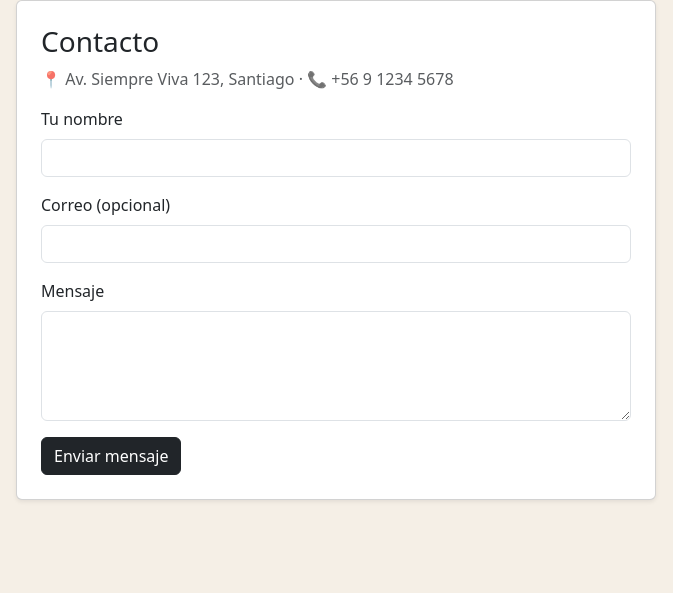
Scenario: envía un mensaje, lo guarda en localStorage y muestra la confirmación
Step 1. Type "Camila" into the field labelled "Tu nombre" → coordinates (336, 158), box [41,139,631,177]
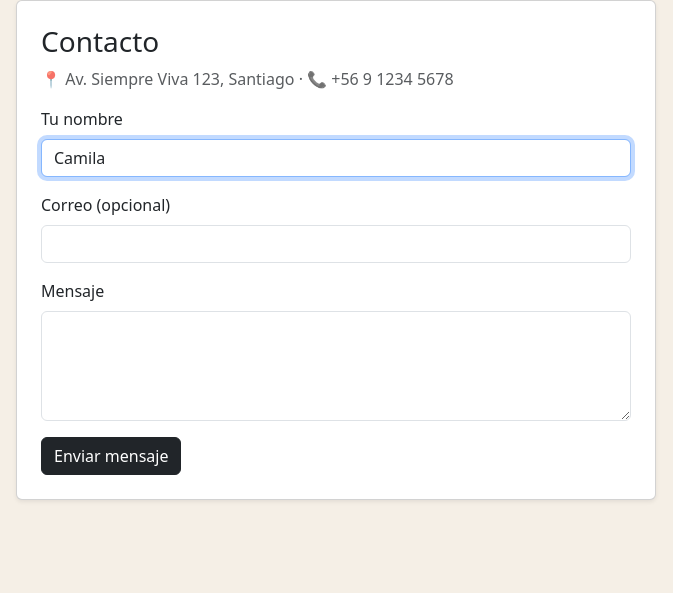
Step 2. Type "¿Tienen leche de almendra?" into the text box labelled "Mensaje" → coordinates (336, 366), box [41,311,631,421]
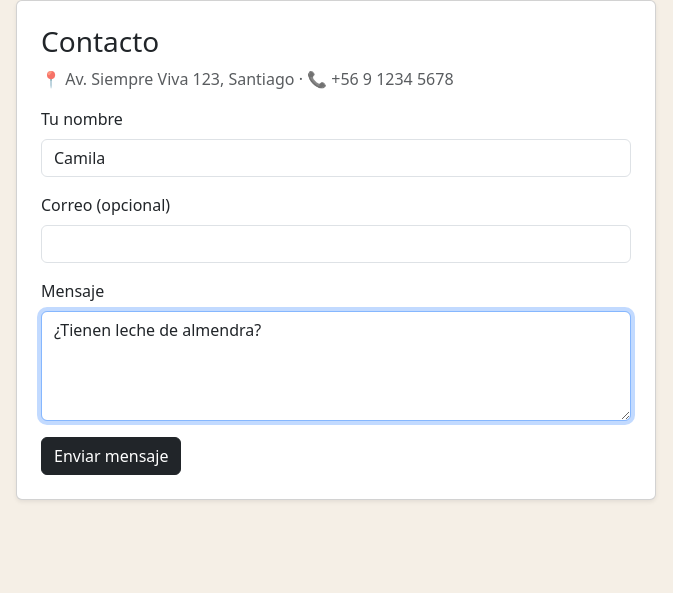
Step 3. Click the button "Enviar mensaje" → coordinates (111, 456), box [41,437,182,475]
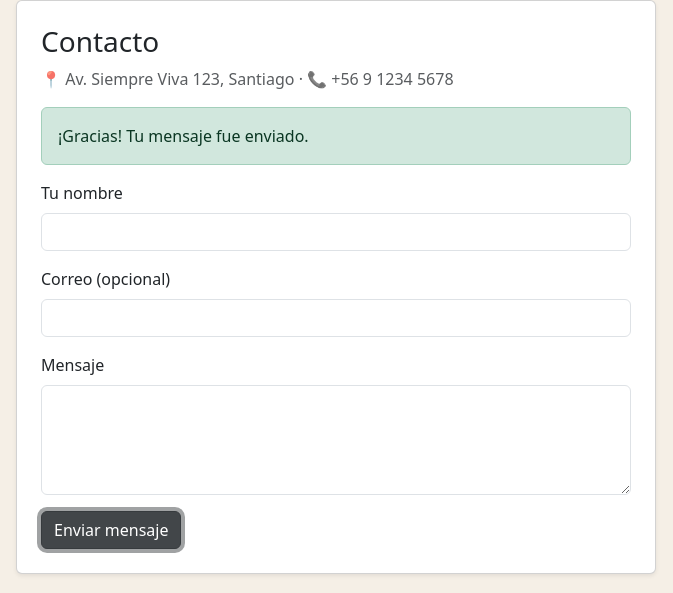
Expected: the text "¡Gracias! Tu mensaje fue enviado." is shown, [41,107,631,165]
